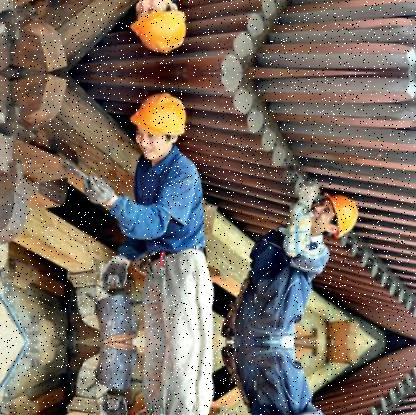helmet: (130, 86, 193, 162), (130, 0, 194, 59), (310, 187, 361, 237)
